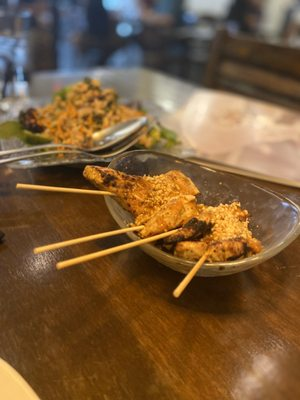sushi: (13, 151, 300, 289)
